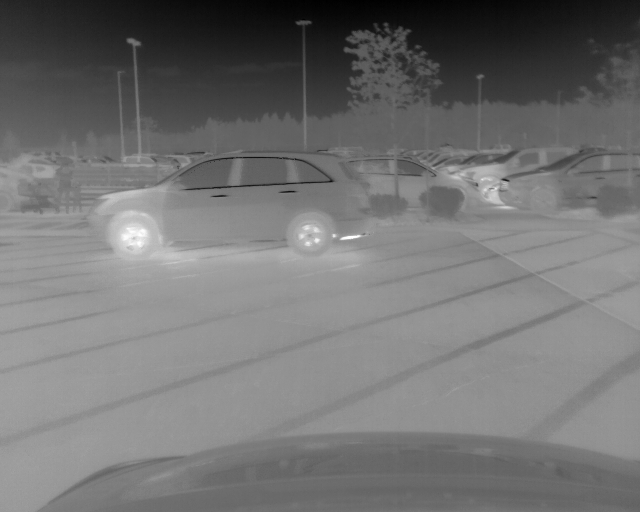car: (82, 150, 373, 255), (498, 149, 640, 217), (453, 145, 584, 207), (349, 155, 483, 215), (1, 168, 42, 215), (117, 153, 179, 178)
people: (53, 159, 72, 214), (69, 158, 84, 211)
